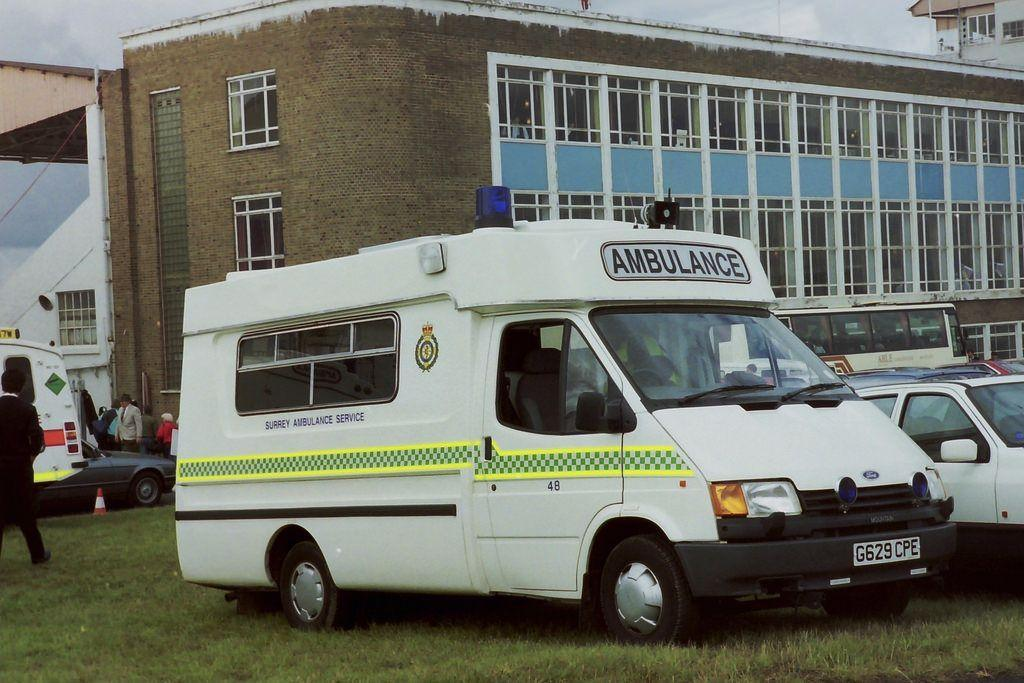Ambulance: (602, 242, 754, 286)
